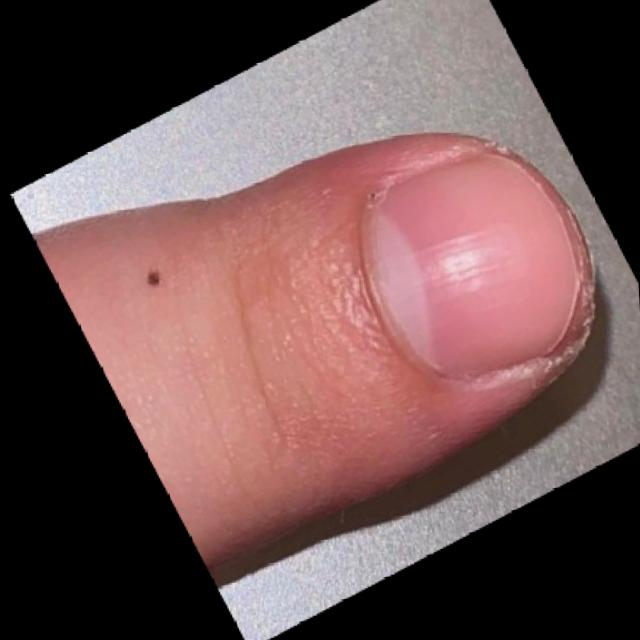Nail: (366, 149, 581, 383)
